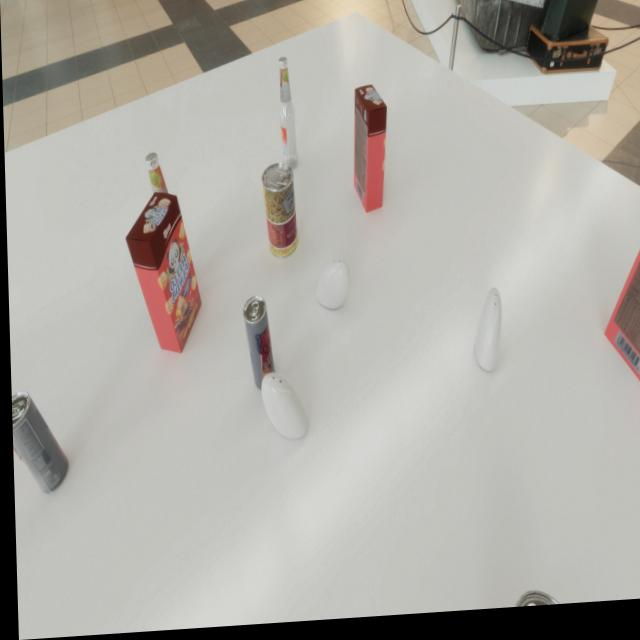Bottle: (144, 153, 190, 291), (277, 61, 297, 175)
HelloPanda: (123, 192, 201, 358), (351, 89, 388, 218)
Potato_sticks: (260, 166, 297, 263)
Rita_zero_sugar: (9, 389, 67, 495), (241, 298, 273, 395)
Salt: (259, 374, 306, 444), (472, 293, 501, 378), (314, 263, 349, 314)
